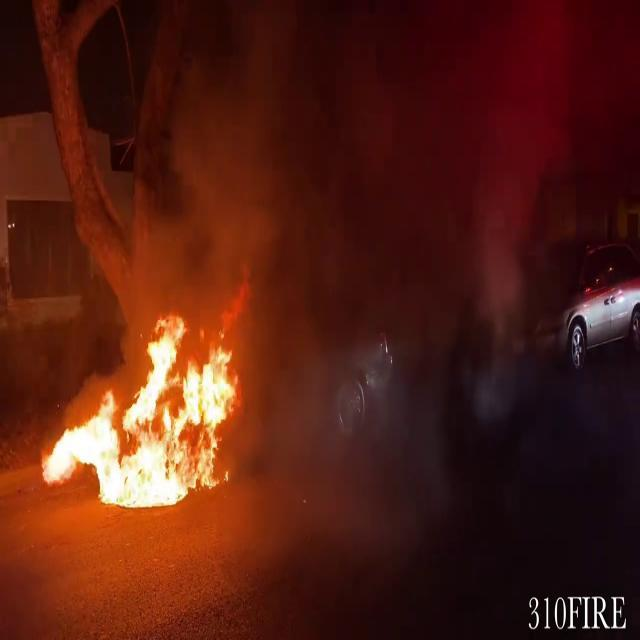Fire: (32, 304, 248, 515)
Smoke: (211, 0, 604, 502)
